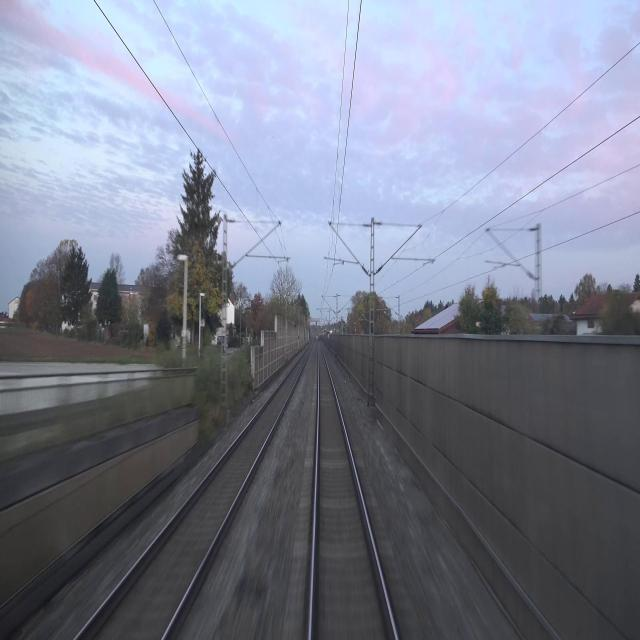rail-track: (79, 351, 307, 639), (312, 347, 393, 639)
